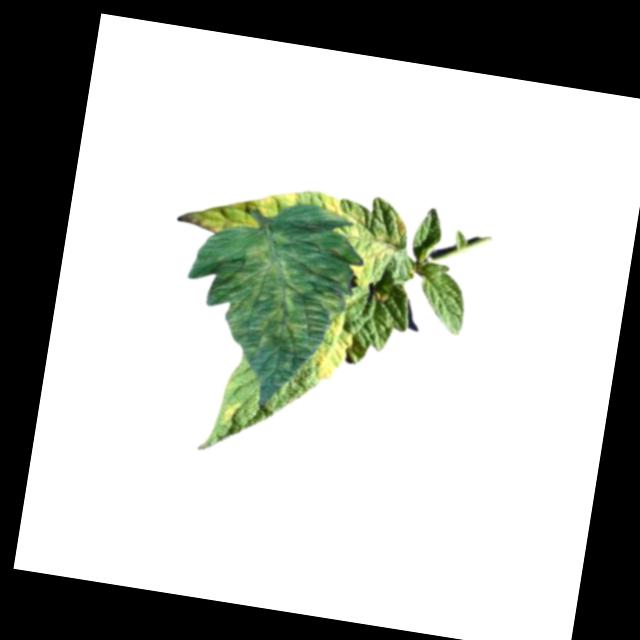Leaf_Mold: (223, 240, 333, 362), (173, 173, 299, 247), (314, 313, 358, 386), (348, 238, 399, 290), (318, 193, 346, 218)
